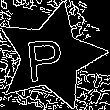P_N: (30, 30, 72, 83)
